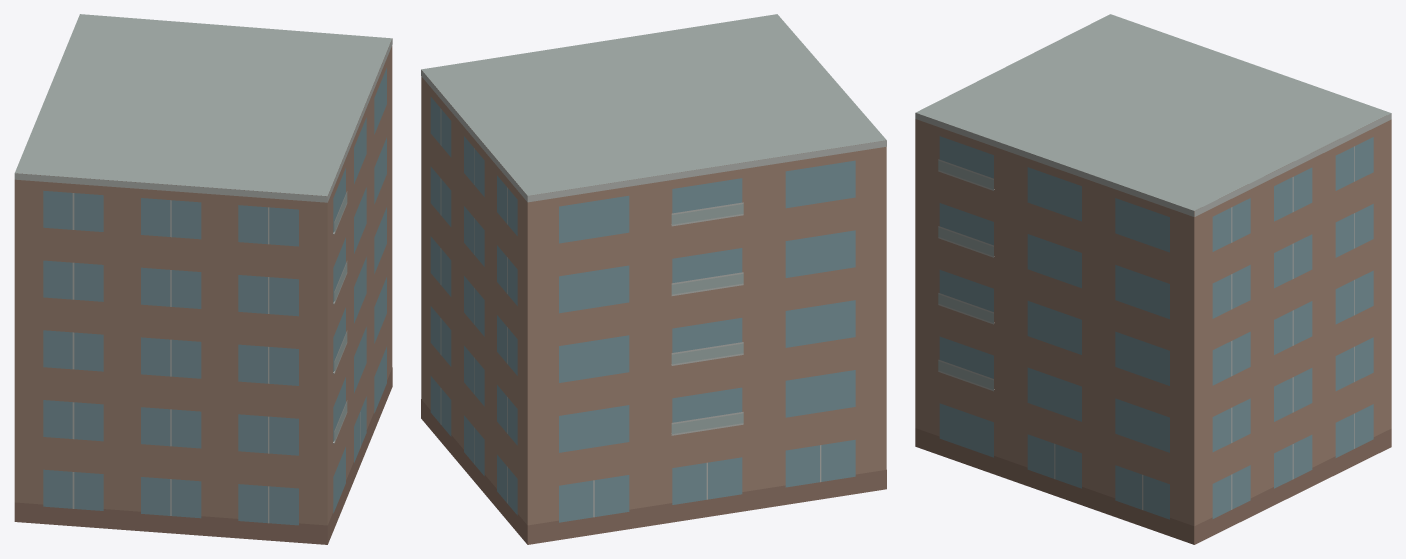
Rendered from survey-upis-32988588.glb.
3 views of the same model, side by side, from view 1: azimuth 30°, elevation 25°; view 2: azimuth 150°, elevation 25°; view 3: azimuth 270°, elevation 25° (orthographic). The views are drawn at different scales.
Visible parts, largest first — view 1: survey-upis-32988588.tmp; view 2: survey-upis-32988588.tmp; view 3: survey-upis-32988588.tmp.
Boxes of the visible parts, bbox=[...] form: survey-upis-32988588.tmp: bbox=[14, 14, 392, 544]; survey-upis-32988588.tmp: bbox=[421, 14, 886, 544]; survey-upis-32988588.tmp: bbox=[915, 14, 1391, 544].
Size of the model in its own units: 16.58 by 13.1 by 16.94.
